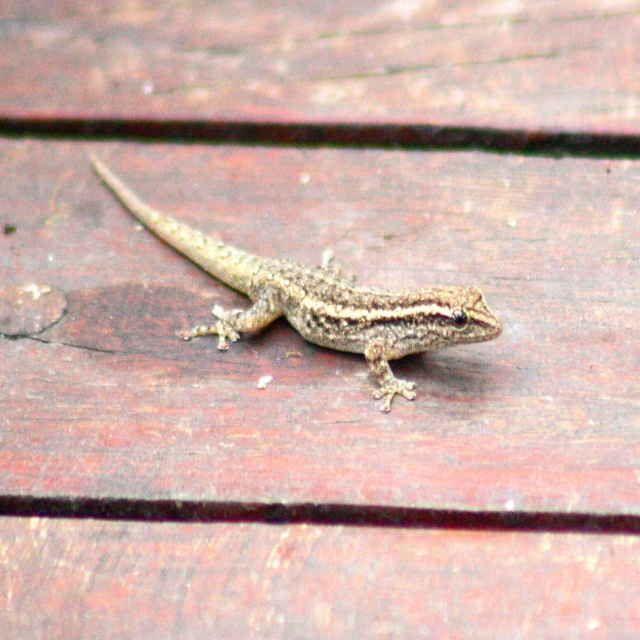Lizard: (112, 160, 528, 427)
